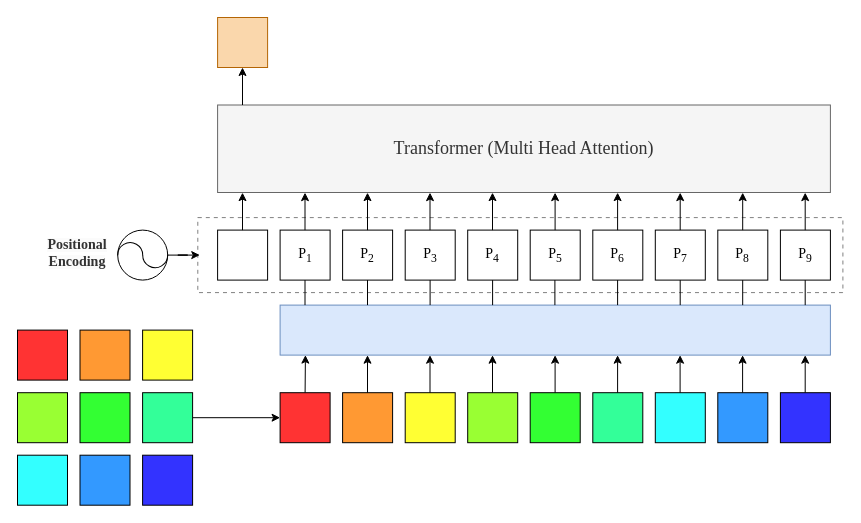
This 861x523 diagram has some shape labels left out. The shapes that lost their labels are listed below. From the top down, each one's centre as x and y in pixels, then its label:
At (x=242, y=42): "R D".
At (x=242, y=254): "CLS 0".
At (x=554, y=329): "Linear Patch Flattening".
